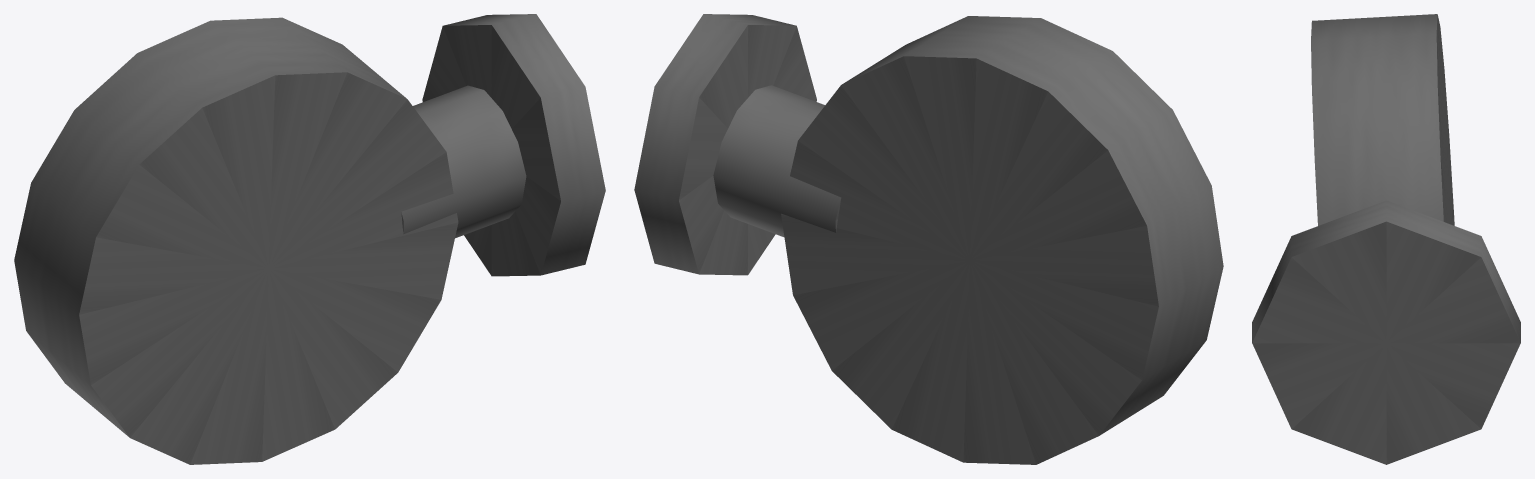
Rendered from mastarmcurve_10x2_c10_east.obj.
The picture shows the model from 3 angles, left to right: view 1: azimuth 30°, elevation 25°; view 2: azimuth 150°, elevation 25°; view 3: azimuth 270°, elevation 25°; orthographic projection. The views are drawn at different scales.
Parts seen in each view (by area): view 1: mastarm_10x2_c10_east; view 2: mastarm_10x2_c10_east; view 3: mastarm_10x2_c10_east.
Part boxes in pixels (x1=…): mastarm_10x2_c10_east: x1=14, y1=14, x2=605, y2=464; mastarm_10x2_c10_east: x1=634, y1=14, x2=1223, y2=464; mastarm_10x2_c10_east: x1=1252, y1=14, x2=1520, y2=464.
Size of the model in its own units: 0.815 by 0.6413 by 0.4.
